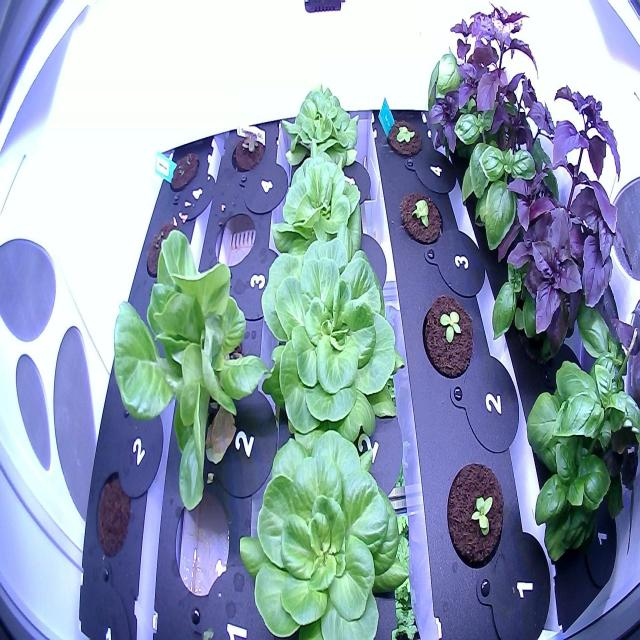empty_pod: (167, 488, 236, 604), (212, 203, 260, 276)
germination: (143, 216, 187, 282), (229, 126, 267, 177), (167, 143, 203, 196)
pod: (88, 466, 139, 563)
young: (107, 226, 274, 516), (238, 418, 418, 636), (254, 226, 407, 437), (264, 146, 372, 270), (276, 73, 363, 183), (440, 455, 509, 578), (418, 282, 478, 386), (397, 180, 448, 256), (382, 108, 428, 166)
